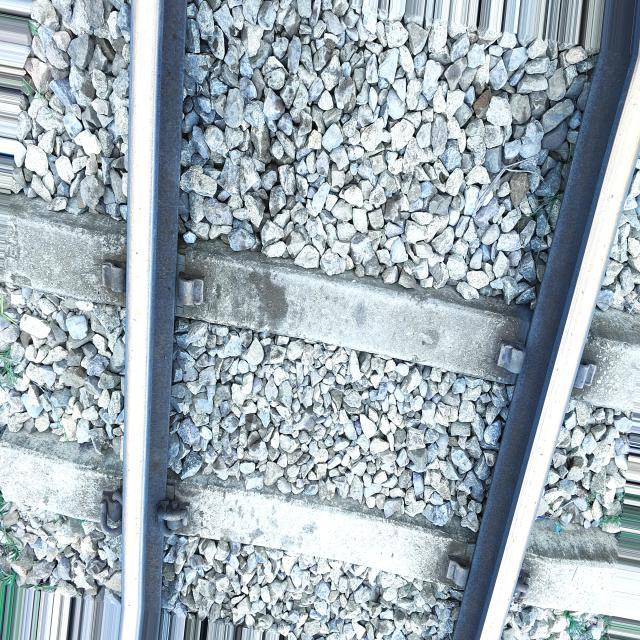Good Fasteners: (100, 488, 124, 538), (156, 498, 190, 530), (513, 571, 529, 598)
Missing Fastener: (87, 246, 133, 305), (174, 257, 216, 315), (482, 335, 532, 381), (432, 542, 476, 594), (582, 348, 592, 399)
